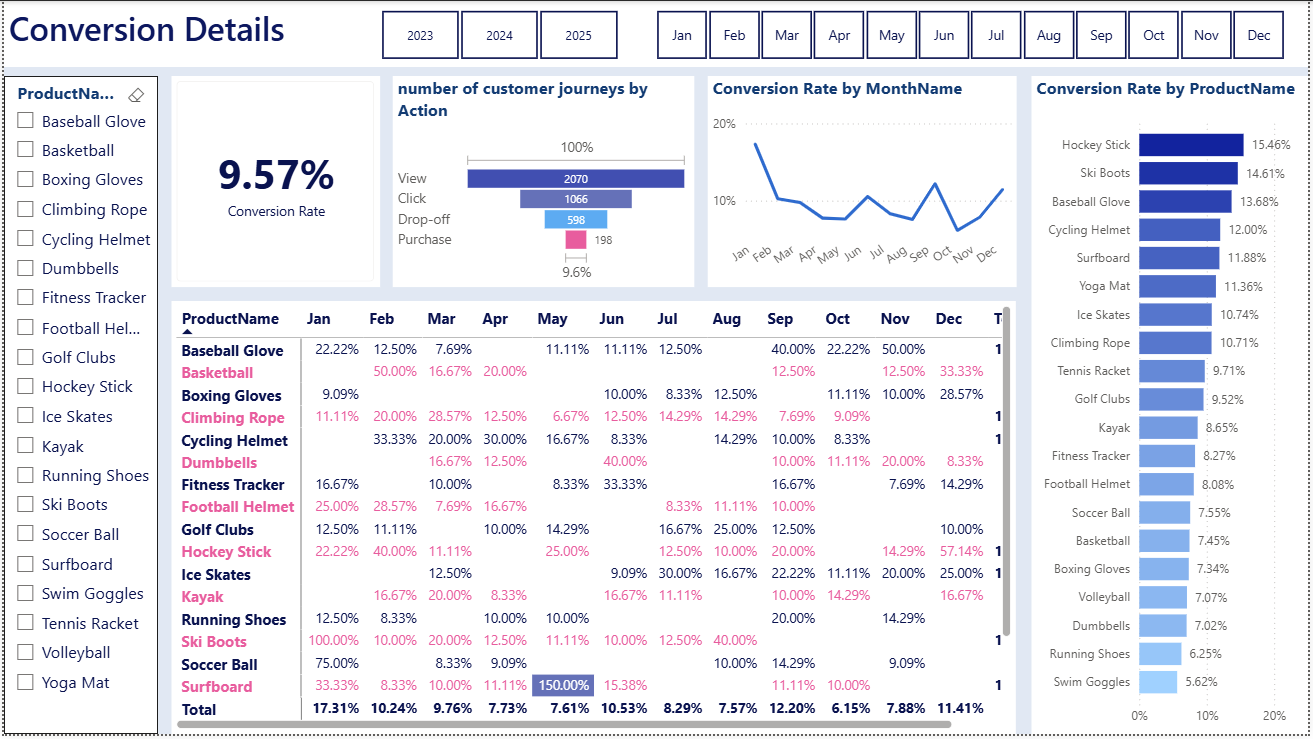

The dashboard page shown, as its layout file describes it:
{"tool":"powerbi","page":{"name":"ConversionDetails","canvas":[1280,720],"ordinal":1},"visuals":[{"type":"slicer","fields":{"Values":["dim_products.ProductName"]},"box":[0,74.1,150.9,646.3],"z":0},{"type":"textbox","box":[0,0,1280.3,64.5],"z":1000},{"type":"cardVisual","fields":{"Data":["_Calculations.Conversion Rate"]},"box":[164.7,74.1,204.5,207.2],"z":5000},{"type":"slicer","fields":{"Values":["Calendar.Year"]},"box":[344.4,2.7,281.3,61.7],"z":10000},{"type":"slicer","fields":{"Values":["Calendar.MonthNameShort"]},"box":[614.8,2.7,665.5,61.7],"z":11000},{"type":"lineChart","title":"Conversion Rate by MonthName","fields":{"Y":["_Calculations.Conversion Rate"],"Category":["Calendar.MonthNameShort"]},"box":[690.2,74.1,303.3,207.2],"z":12000},{"type":"clusteredBarChart","fields":{"Category":["dim_products.ProductName"],"Y":["_Calculations.Conversion Rate"]},"box":[1008.6,74.1,271.7,646.3],"z":13000},{"type":"pivotTable","fields":{"Rows":["dim_products.ProductName"],"Columns":["Calendar.MonthNameShort"],"Values":["_Calculations.Conversion Rate"]},"box":[164.7,295,828.8,425.4],"z":13001},{"type":"funnel","fields":{"Y":["_Calculations.number of customer journeys"],"Category":["fact_customer_journey.Action"]},"box":[381.5,74.1,296.4,207.2],"z":13002}]}

Visuals, with their boxes in screenshot pixels (x1, y1, x2, y2), scaled from the page's 1280x720 canvas onto the 1313x739 screenshot:
slicer - dim_products.ProductName: region(0, 76, 155, 738)
textbox: region(0, 0, 1312, 66)
cardVisual - _Calculations.Conversion Rate: region(169, 76, 379, 289)
slicer - Calendar.Year: region(353, 3, 642, 66)
slicer - Calendar.MonthNameShort: region(631, 3, 1312, 66)
"Conversion Rate by MonthName" lineChart: region(708, 76, 1019, 289)
clusteredBarChart - dim_products.ProductName x _Calculations.Conversion Rate: region(1035, 76, 1312, 738)
pivotTable - dim_products.ProductName x Calendar.MonthNameShort: region(169, 303, 1019, 738)
funnel - _Calculations.number of customer journeys x fact_customer_journey.Action: region(391, 76, 695, 289)
